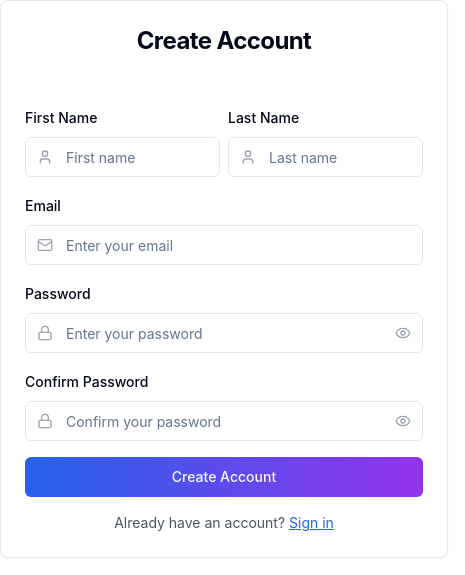
Test: RegisterForm › disables submit button while loading
Type "John" into the field labelled "First Name" at x=122, y=157, box [25,137,220,177]
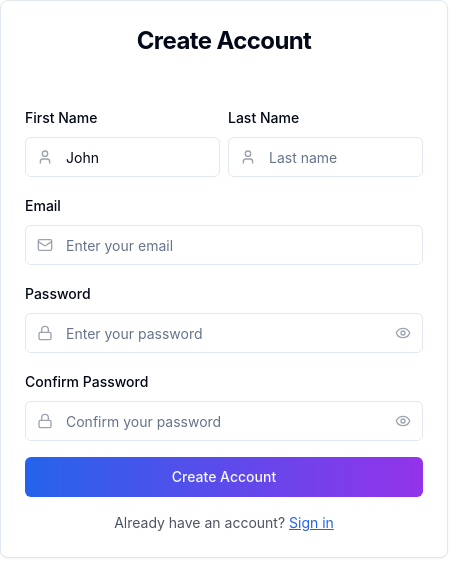
Type "Doe" into the field labelled "Last Name" at x=326, y=157, box [228,137,423,177]
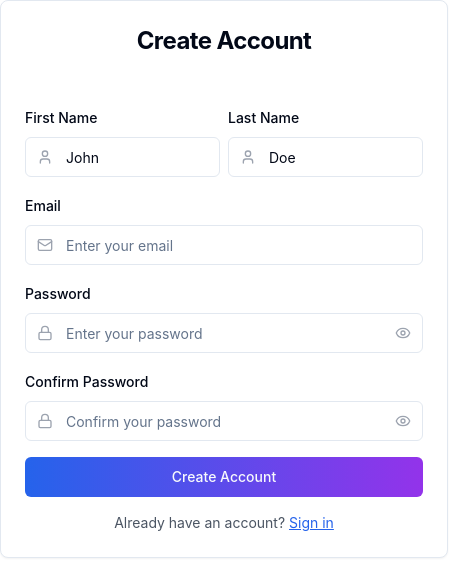
Type "test@example.com" into the field labelled "Email" at x=224, y=245, box [25,225,423,265]
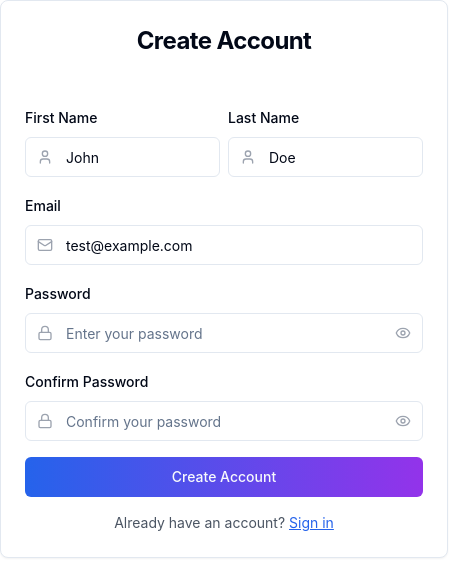
Type "password123" into the password field labelled "Password" at x=224, y=333, box [25,313,423,353]
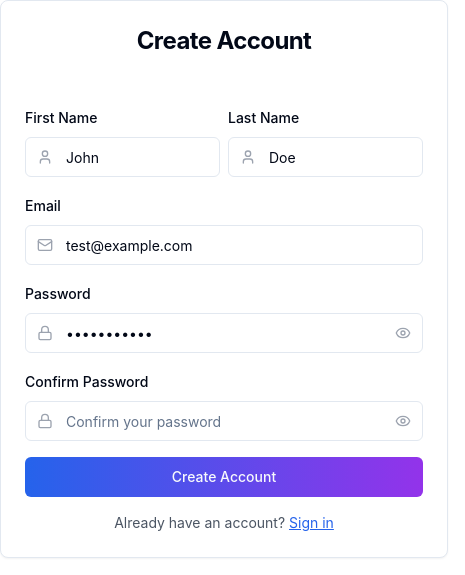
Type "password123" into the password field labelled "Confirm Password" at x=224, y=421, box [25,401,423,441]
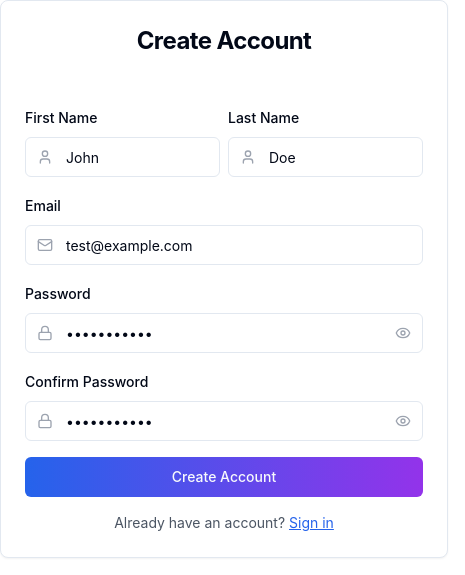
Click the button "Create Account" at x=224, y=477, box [25,457,423,497]
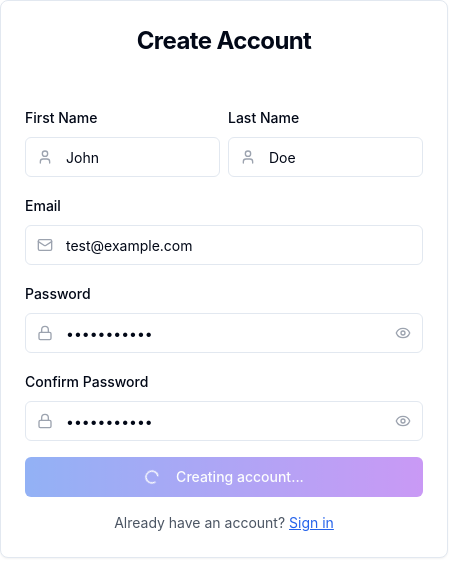
Expected: the button named "create account" is disabled, [25,457,423,497]
